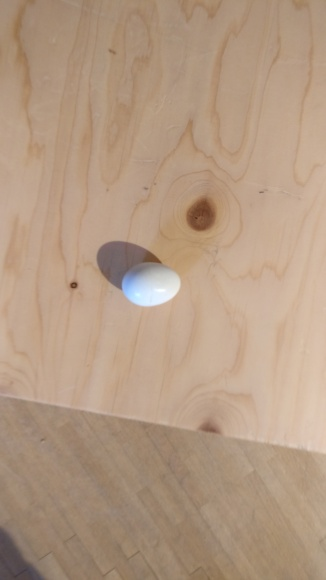egg: (123, 262, 183, 306)
